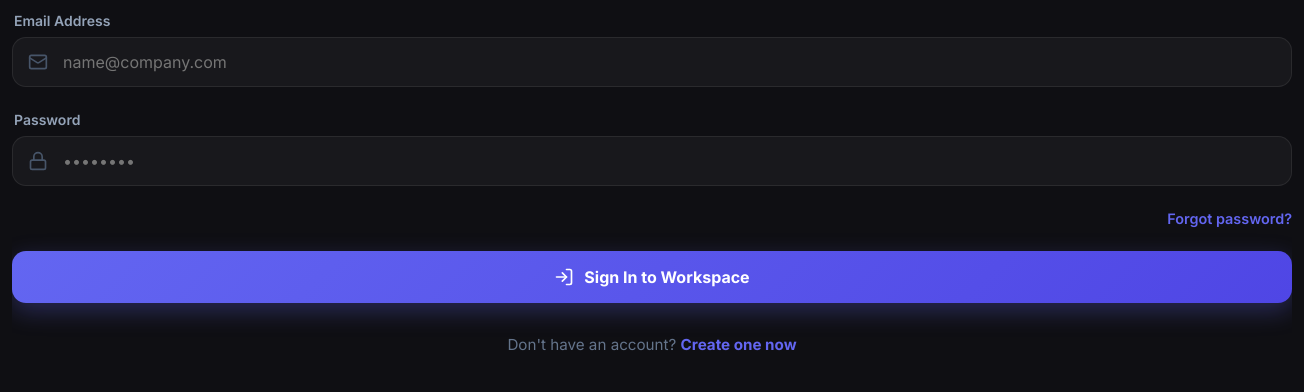
Test: LoginPage › shows email invalid error for malformed email
In the field with placeholder "name@company.com": (652,62) [12,37,1292,87], type "notanemail"
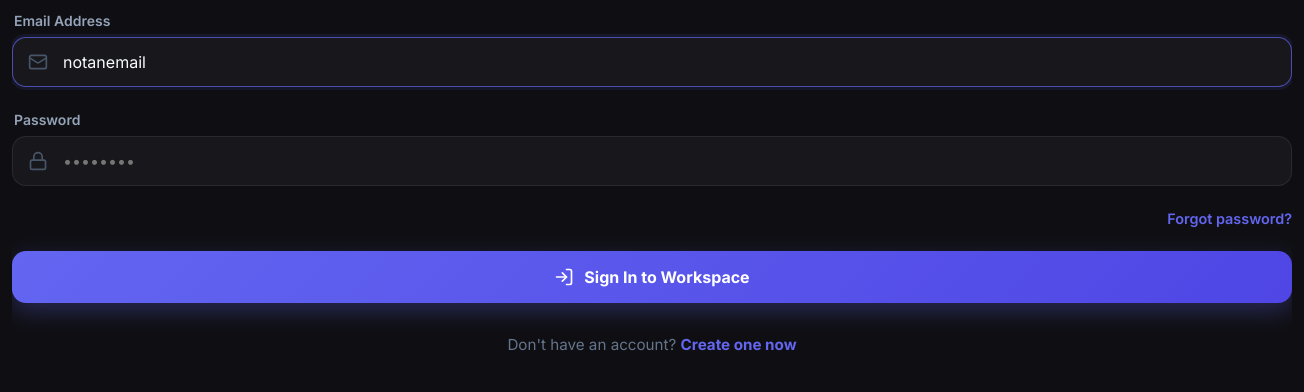
In the password field with placeholder "••••••••": (652,161) [12,136,1292,186], type "password123"
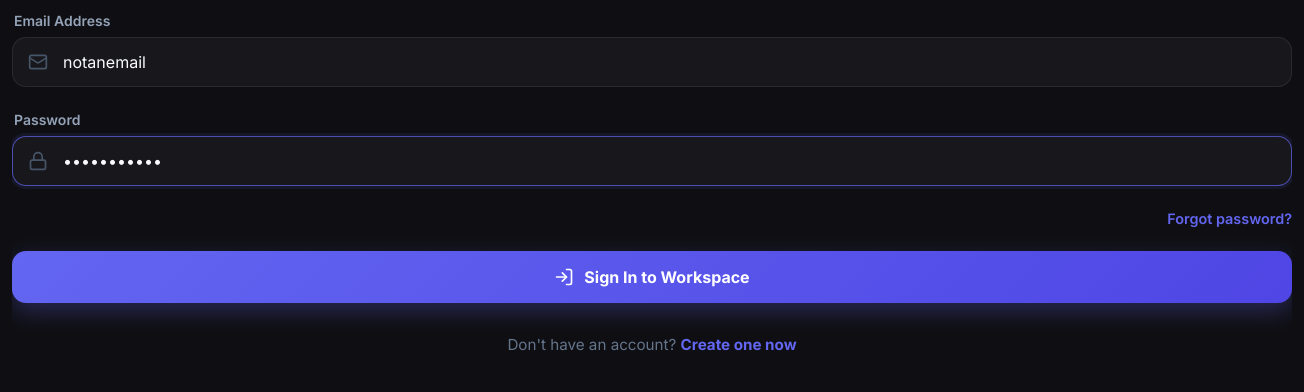
Click the button "Sign In to Workspace": (652,277) [12,251,1292,303]
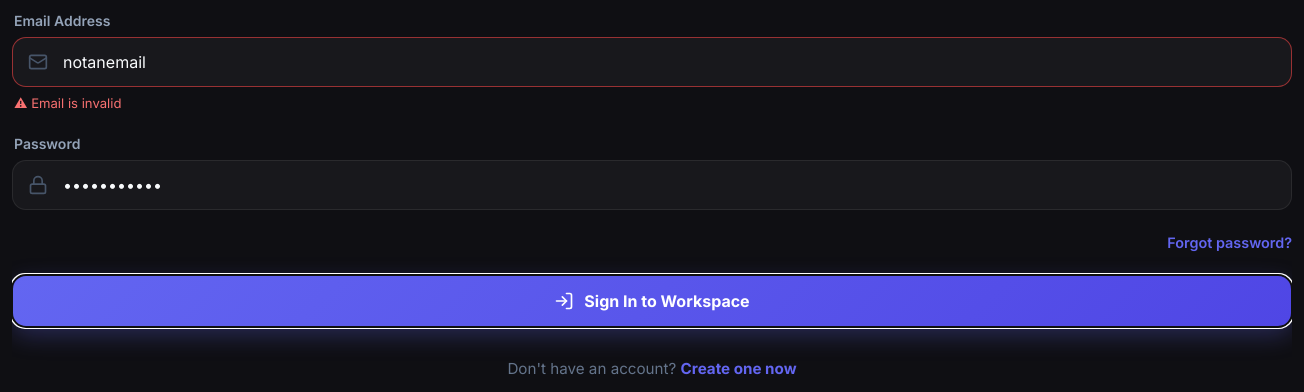
Check: the text "⚠ Email is invalid" is shown, box [14,95,122,111]
